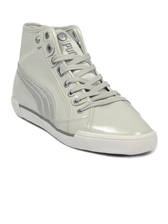shoes: (12, 20, 159, 157)
